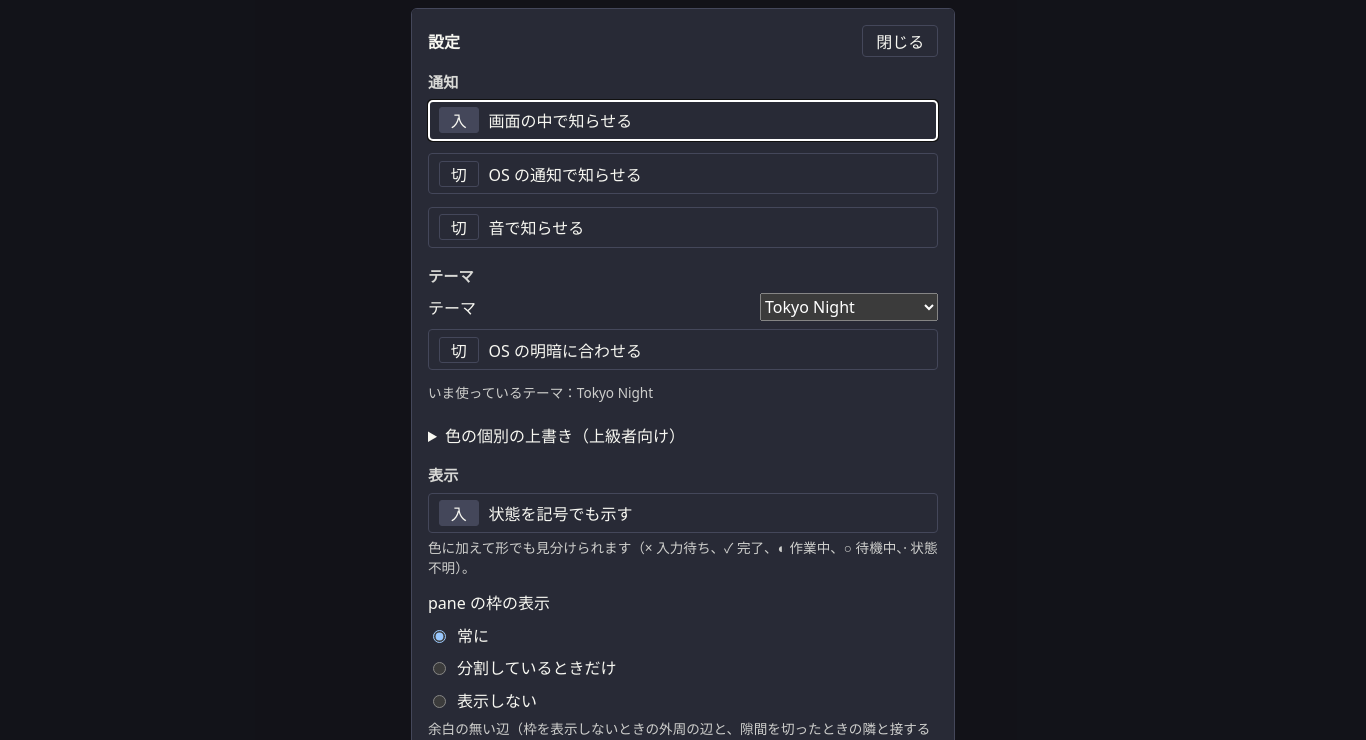
it: SettingsDialog — テーマの節 › 「OS の明暗に合わせる」を入れると明るいとき・暗いときが出て、既定は 1 つのテーマの対（AC5・AC6・AC7）
Click the switch labelled "切 OS の明暗に合わせる". click: point(459, 350)
box: [428,329,938,370]
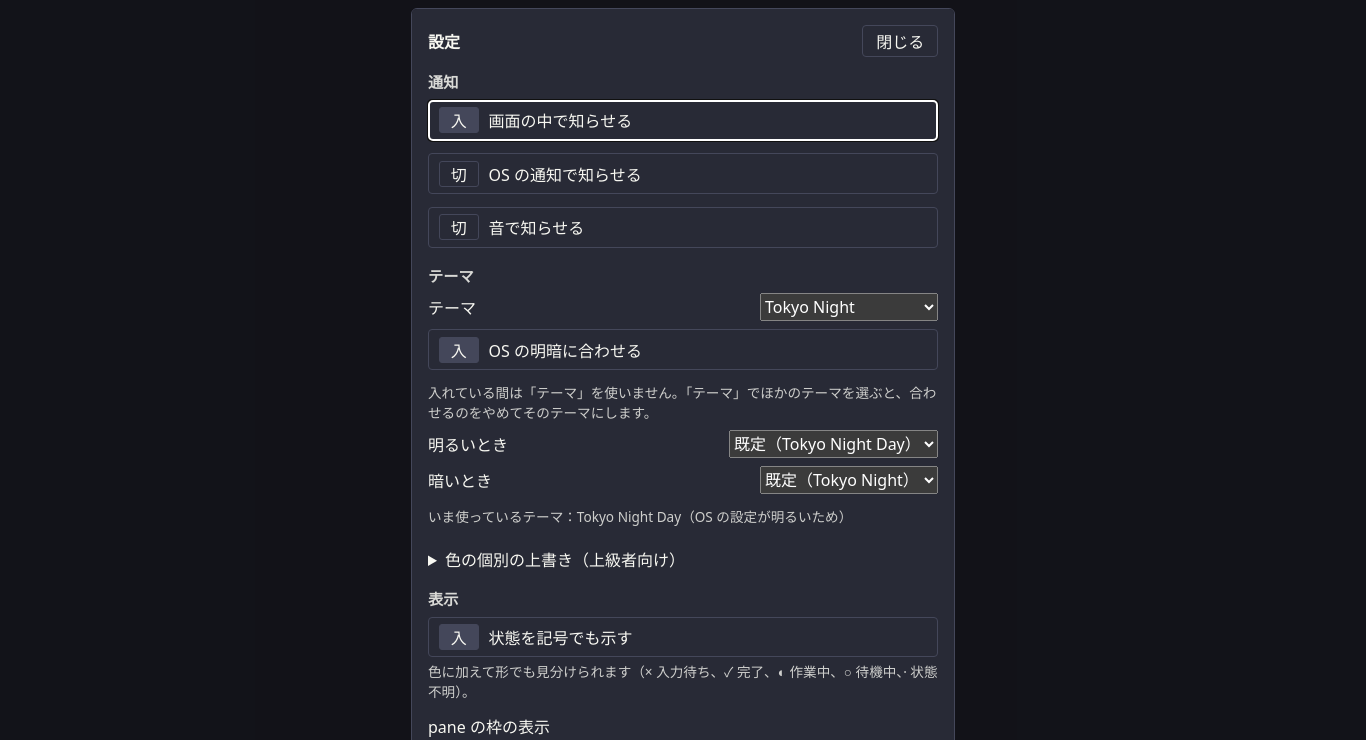
expect the dropdown labelled "明るいとき" shows "既定（Tokyo Night Day）": met, box [729,430,938,458]
expect the text with id "settings-theme-note" reads "いま使っているテーマ：Tokyo Night Day（OS の設定が明るいため）": met, box [428,507,852,526]
expect the element that starts with "テーマ" shows "「テーマ」でほかのテーマを選ぶと、合わせるのをやめてそのテーマにします": met, box [428,383,936,422]
